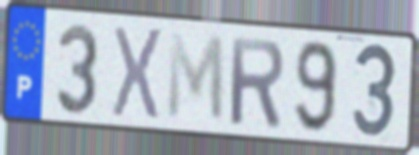3: (350, 39, 398, 145), (54, 20, 101, 119)
9: (293, 39, 341, 137)
M: (165, 30, 226, 127)
R: (227, 33, 287, 129)
X: (109, 23, 166, 125)
